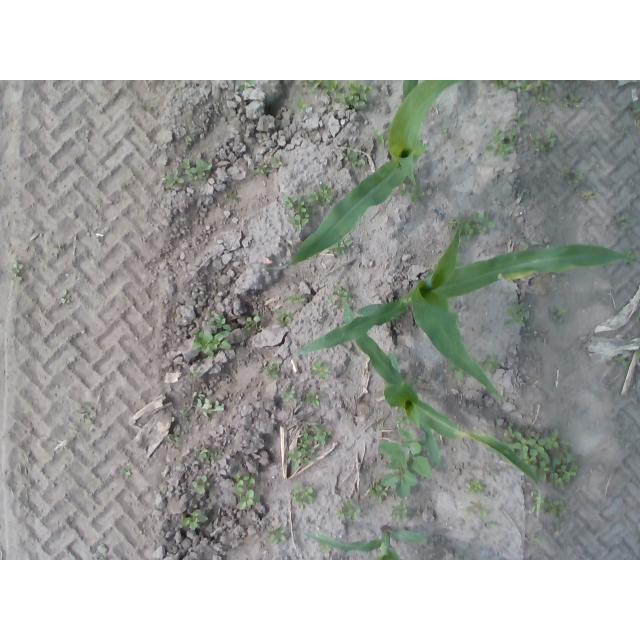Maize: (295, 226, 633, 402), (343, 285, 541, 522), (264, 81, 461, 270), (304, 526, 428, 560)
Weeds: (506, 425, 575, 492), (279, 184, 333, 231), (484, 111, 528, 162), (285, 424, 331, 468), (164, 154, 215, 186), (181, 391, 228, 422), (450, 212, 497, 240), (234, 471, 263, 513), (334, 80, 375, 109), (523, 81, 554, 112), (323, 284, 357, 312), (193, 330, 232, 354), (543, 496, 572, 521), (333, 498, 363, 522), (182, 508, 210, 533), (529, 131, 555, 157), (506, 303, 531, 330), (337, 148, 367, 169), (291, 484, 317, 508), (560, 168, 589, 189), (301, 81, 340, 96), (397, 185, 427, 204), (389, 499, 411, 524), (194, 447, 224, 465), (274, 309, 298, 331), (612, 212, 636, 233), (261, 363, 284, 384), (460, 502, 489, 518), (330, 240, 356, 257), (309, 359, 329, 381), (191, 475, 211, 496), (368, 484, 389, 504), (78, 403, 97, 425), (269, 527, 288, 548), (209, 314, 232, 331), (489, 80, 519, 93), (224, 186, 242, 207), (562, 91, 583, 109), (479, 355, 499, 373), (285, 296, 310, 309), (243, 316, 262, 332), (295, 96, 310, 116), (166, 434, 190, 446), (254, 160, 272, 176), (12, 259, 24, 282), (371, 128, 387, 145), (468, 480, 485, 496), (554, 306, 568, 325), (280, 389, 297, 404), (528, 531, 545, 546), (306, 391, 321, 408), (238, 80, 256, 93), (270, 154, 283, 170), (629, 101, 640, 119), (624, 250, 636, 266), (189, 370, 203, 383), (611, 358, 629, 368), (61, 289, 71, 305), (121, 470, 133, 483), (439, 128, 450, 141), (81, 130, 91, 144), (581, 192, 596, 201), (52, 244, 66, 253), (185, 135, 196, 146), (454, 549, 464, 560), (320, 546, 332, 555), (195, 359, 207, 366), (489, 522, 497, 530), (169, 313, 179, 319)
